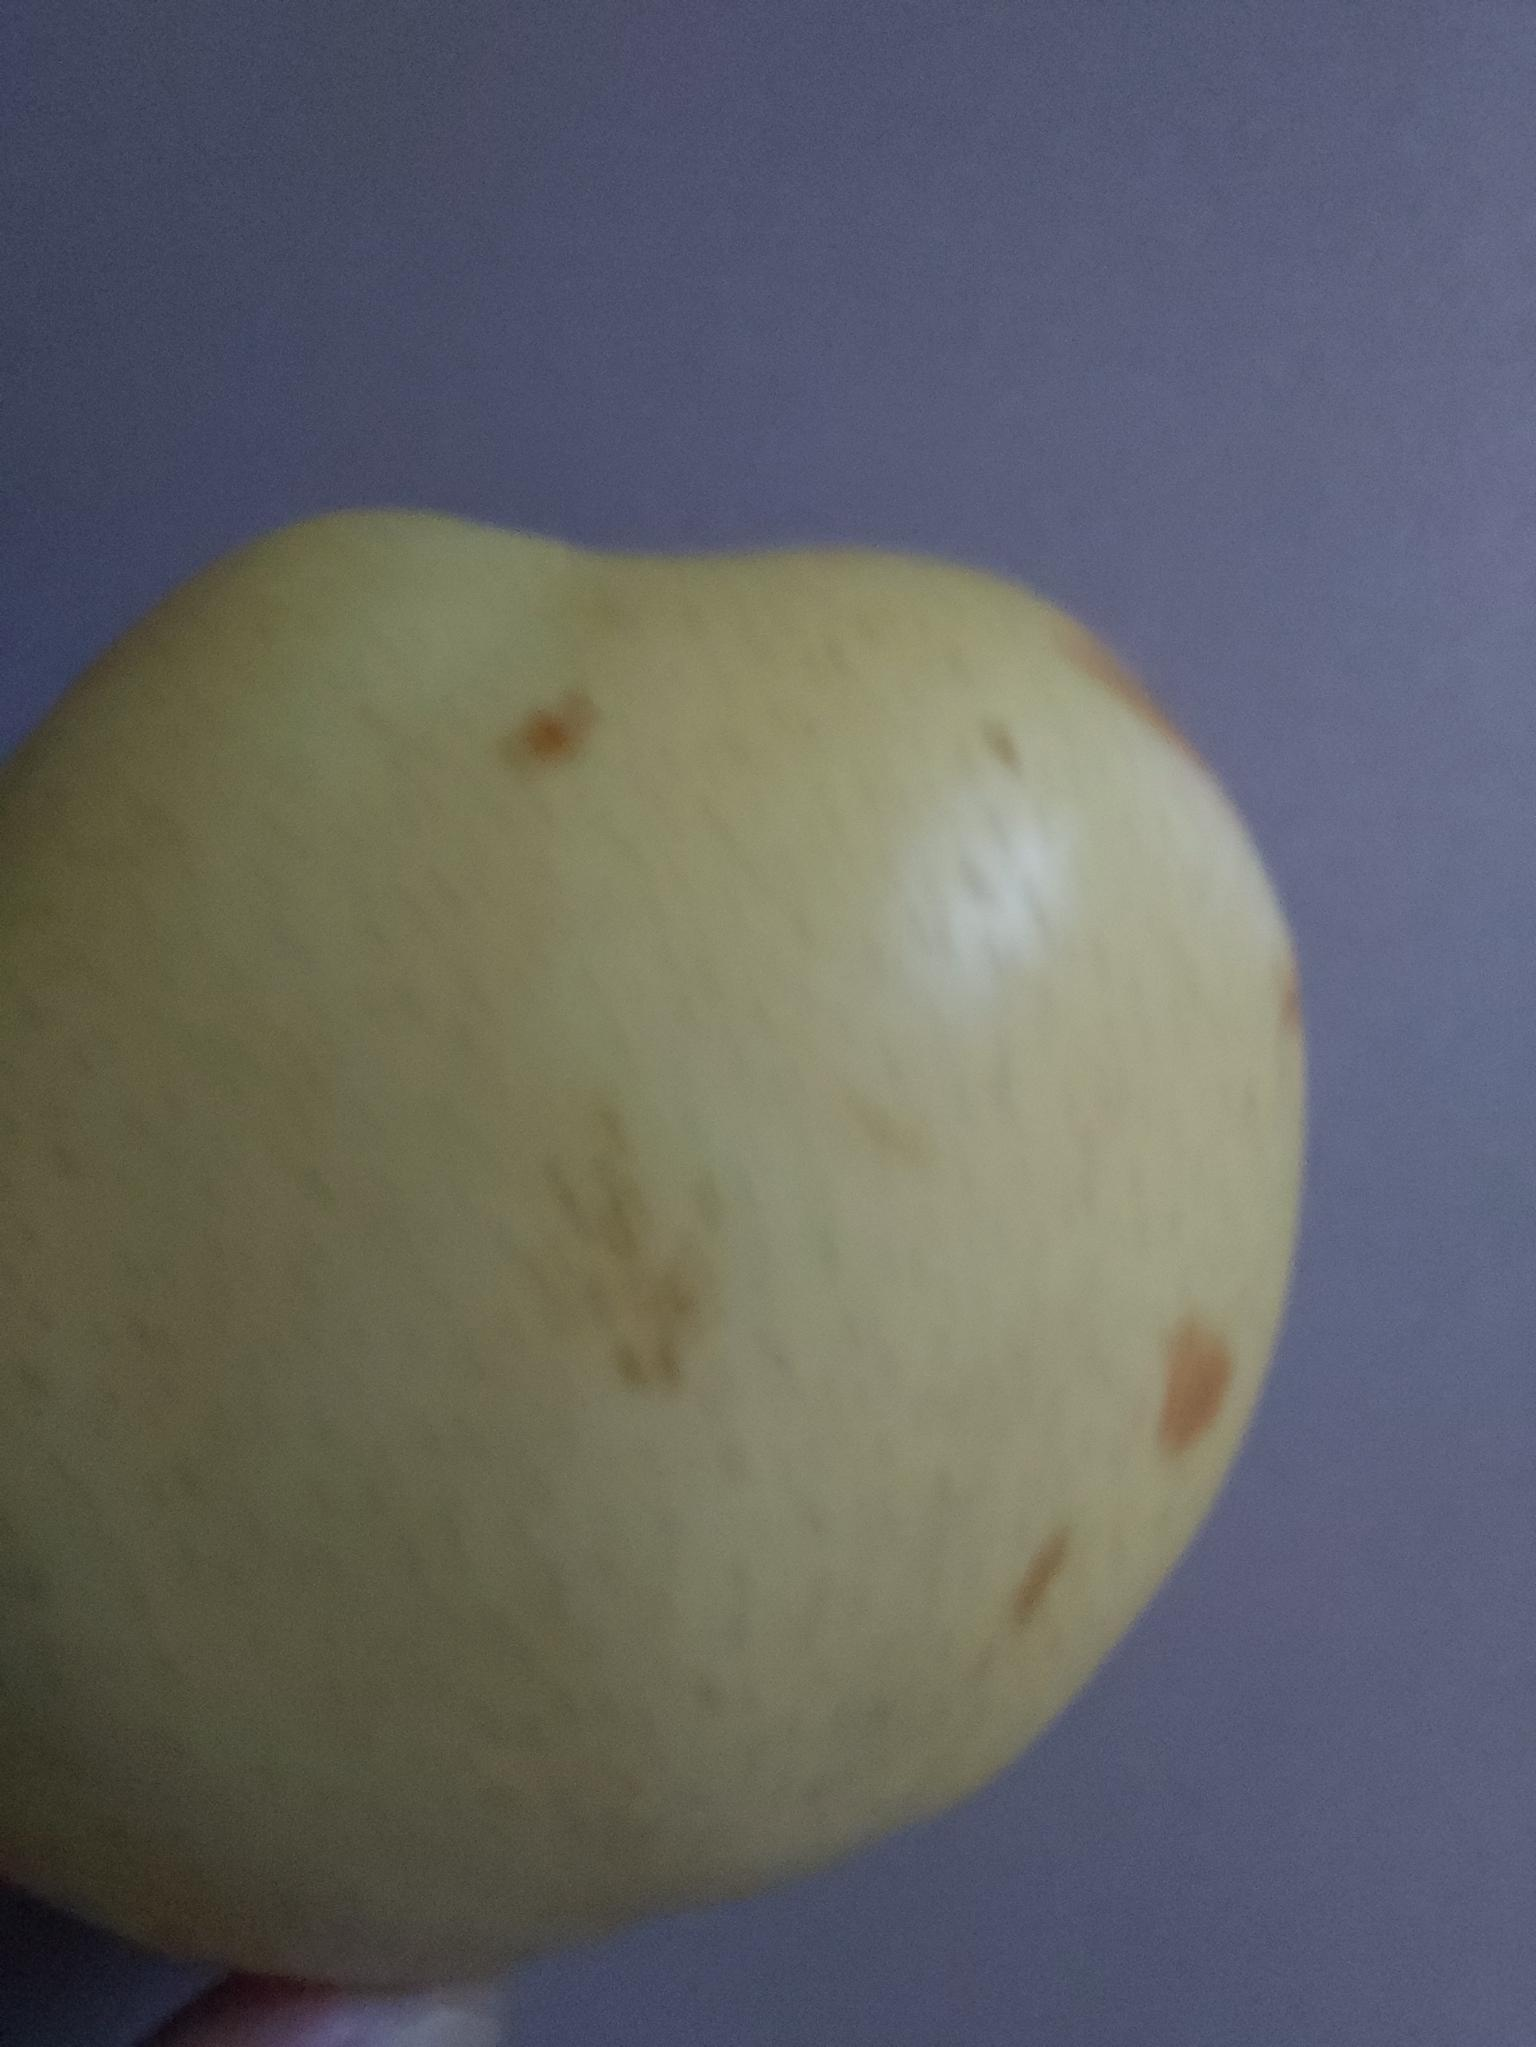Good Pear: (0, 529, 1313, 1950)
